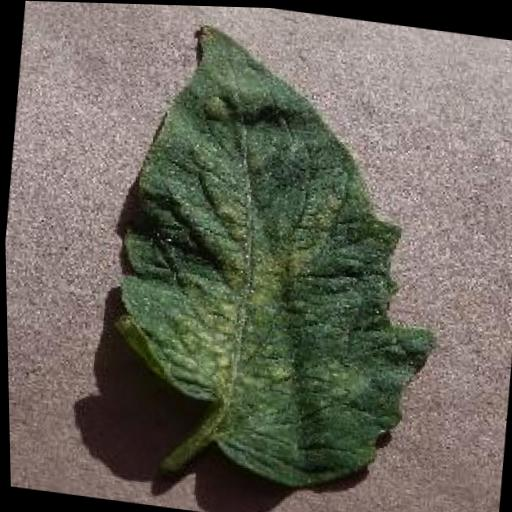Spider Mites: (94, 13, 469, 504)
